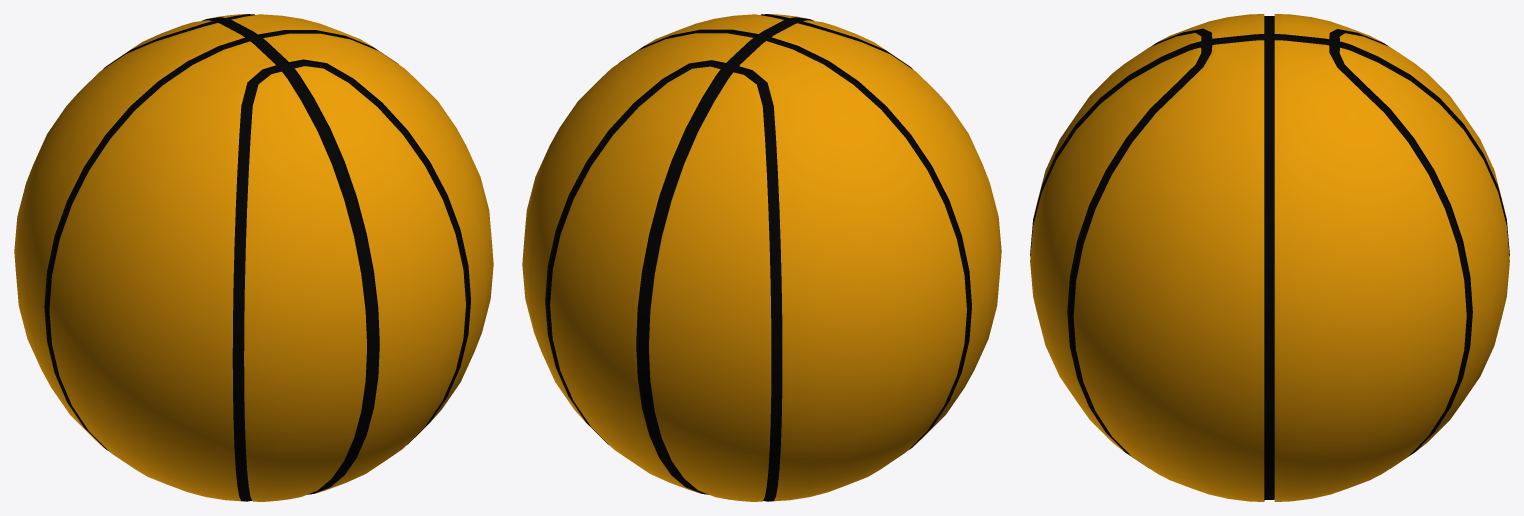
The model's file is Basketball.fbx.
The picture shows the model from 3 angles, left to right: view 1: azimuth 30°, elevation 25°; view 2: azimuth 150°, elevation 25°; view 3: azimuth 270°, elevation 25°; orthographic projection.
Visible parts, largest first — view 1: pasted__Basketball; view 2: pasted__Basketball; view 3: pasted__Basketball.
Part boxes in pixels (x1,y1,x2,y2): pasted__Basketball: (14, 14, 493, 501); pasted__Basketball: (522, 14, 1001, 501); pasted__Basketball: (1030, 14, 1509, 501).
Bounding box in the file's own units: 3.89 × 3.95 × 3.89.
